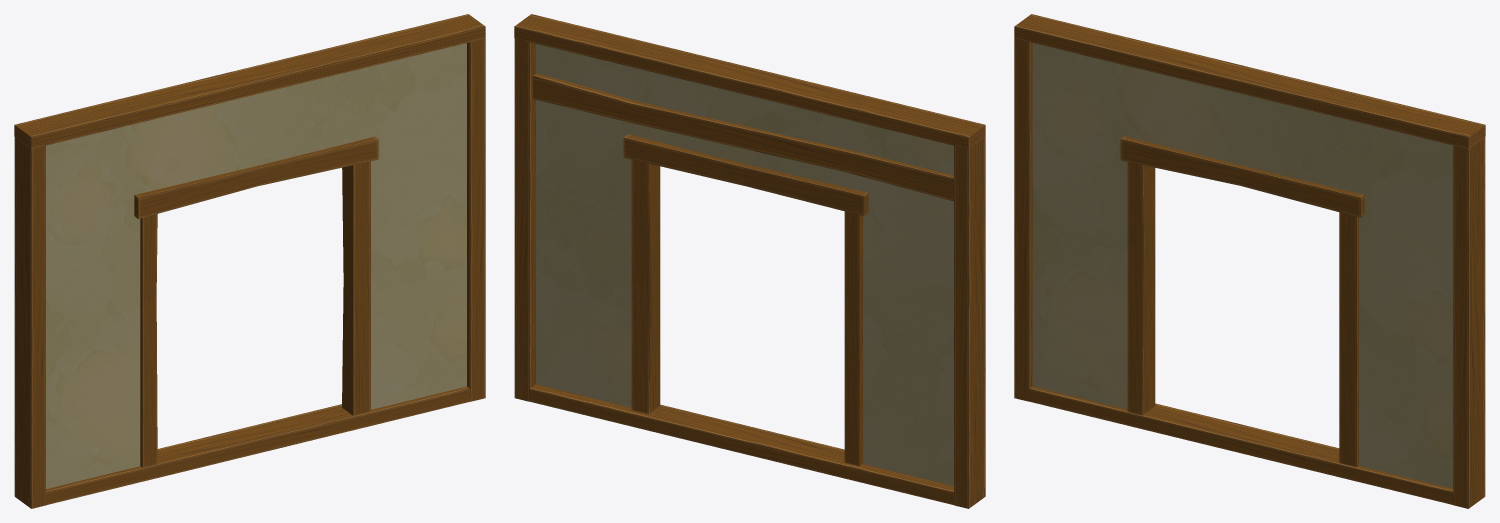
Rendered from SM_House_Wall_5x4_Interior_Door_C_01.fbx.
3 views of the same model, side by side, from view 1: azimuth 30°, elevation 25°; view 2: azimuth 150°, elevation 25°; view 3: azimuth 330°, elevation 25° (orthographic).
Visible parts, largest first — view 1: SM_House_Wall_5x4_Interior_Door_C_01; view 2: SM_House_Wall_5x4_Interior_Door_C_01; view 3: SM_House_Wall_5x4_Interior_Door_C_01.
Part boxes in pixels (bbox=[...]): SM_House_Wall_5x4_Interior_Door_C_01: bbox=[14, 14, 485, 508]; SM_House_Wall_5x4_Interior_Door_C_01: bbox=[514, 14, 985, 508]; SM_House_Wall_5x4_Interior_Door_C_01: bbox=[1014, 14, 1485, 508].
Bounding box in the file's own units: 5 × 3.91 × 0.3318.
